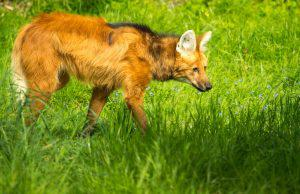LoboGuara: (12, 10, 220, 135)
